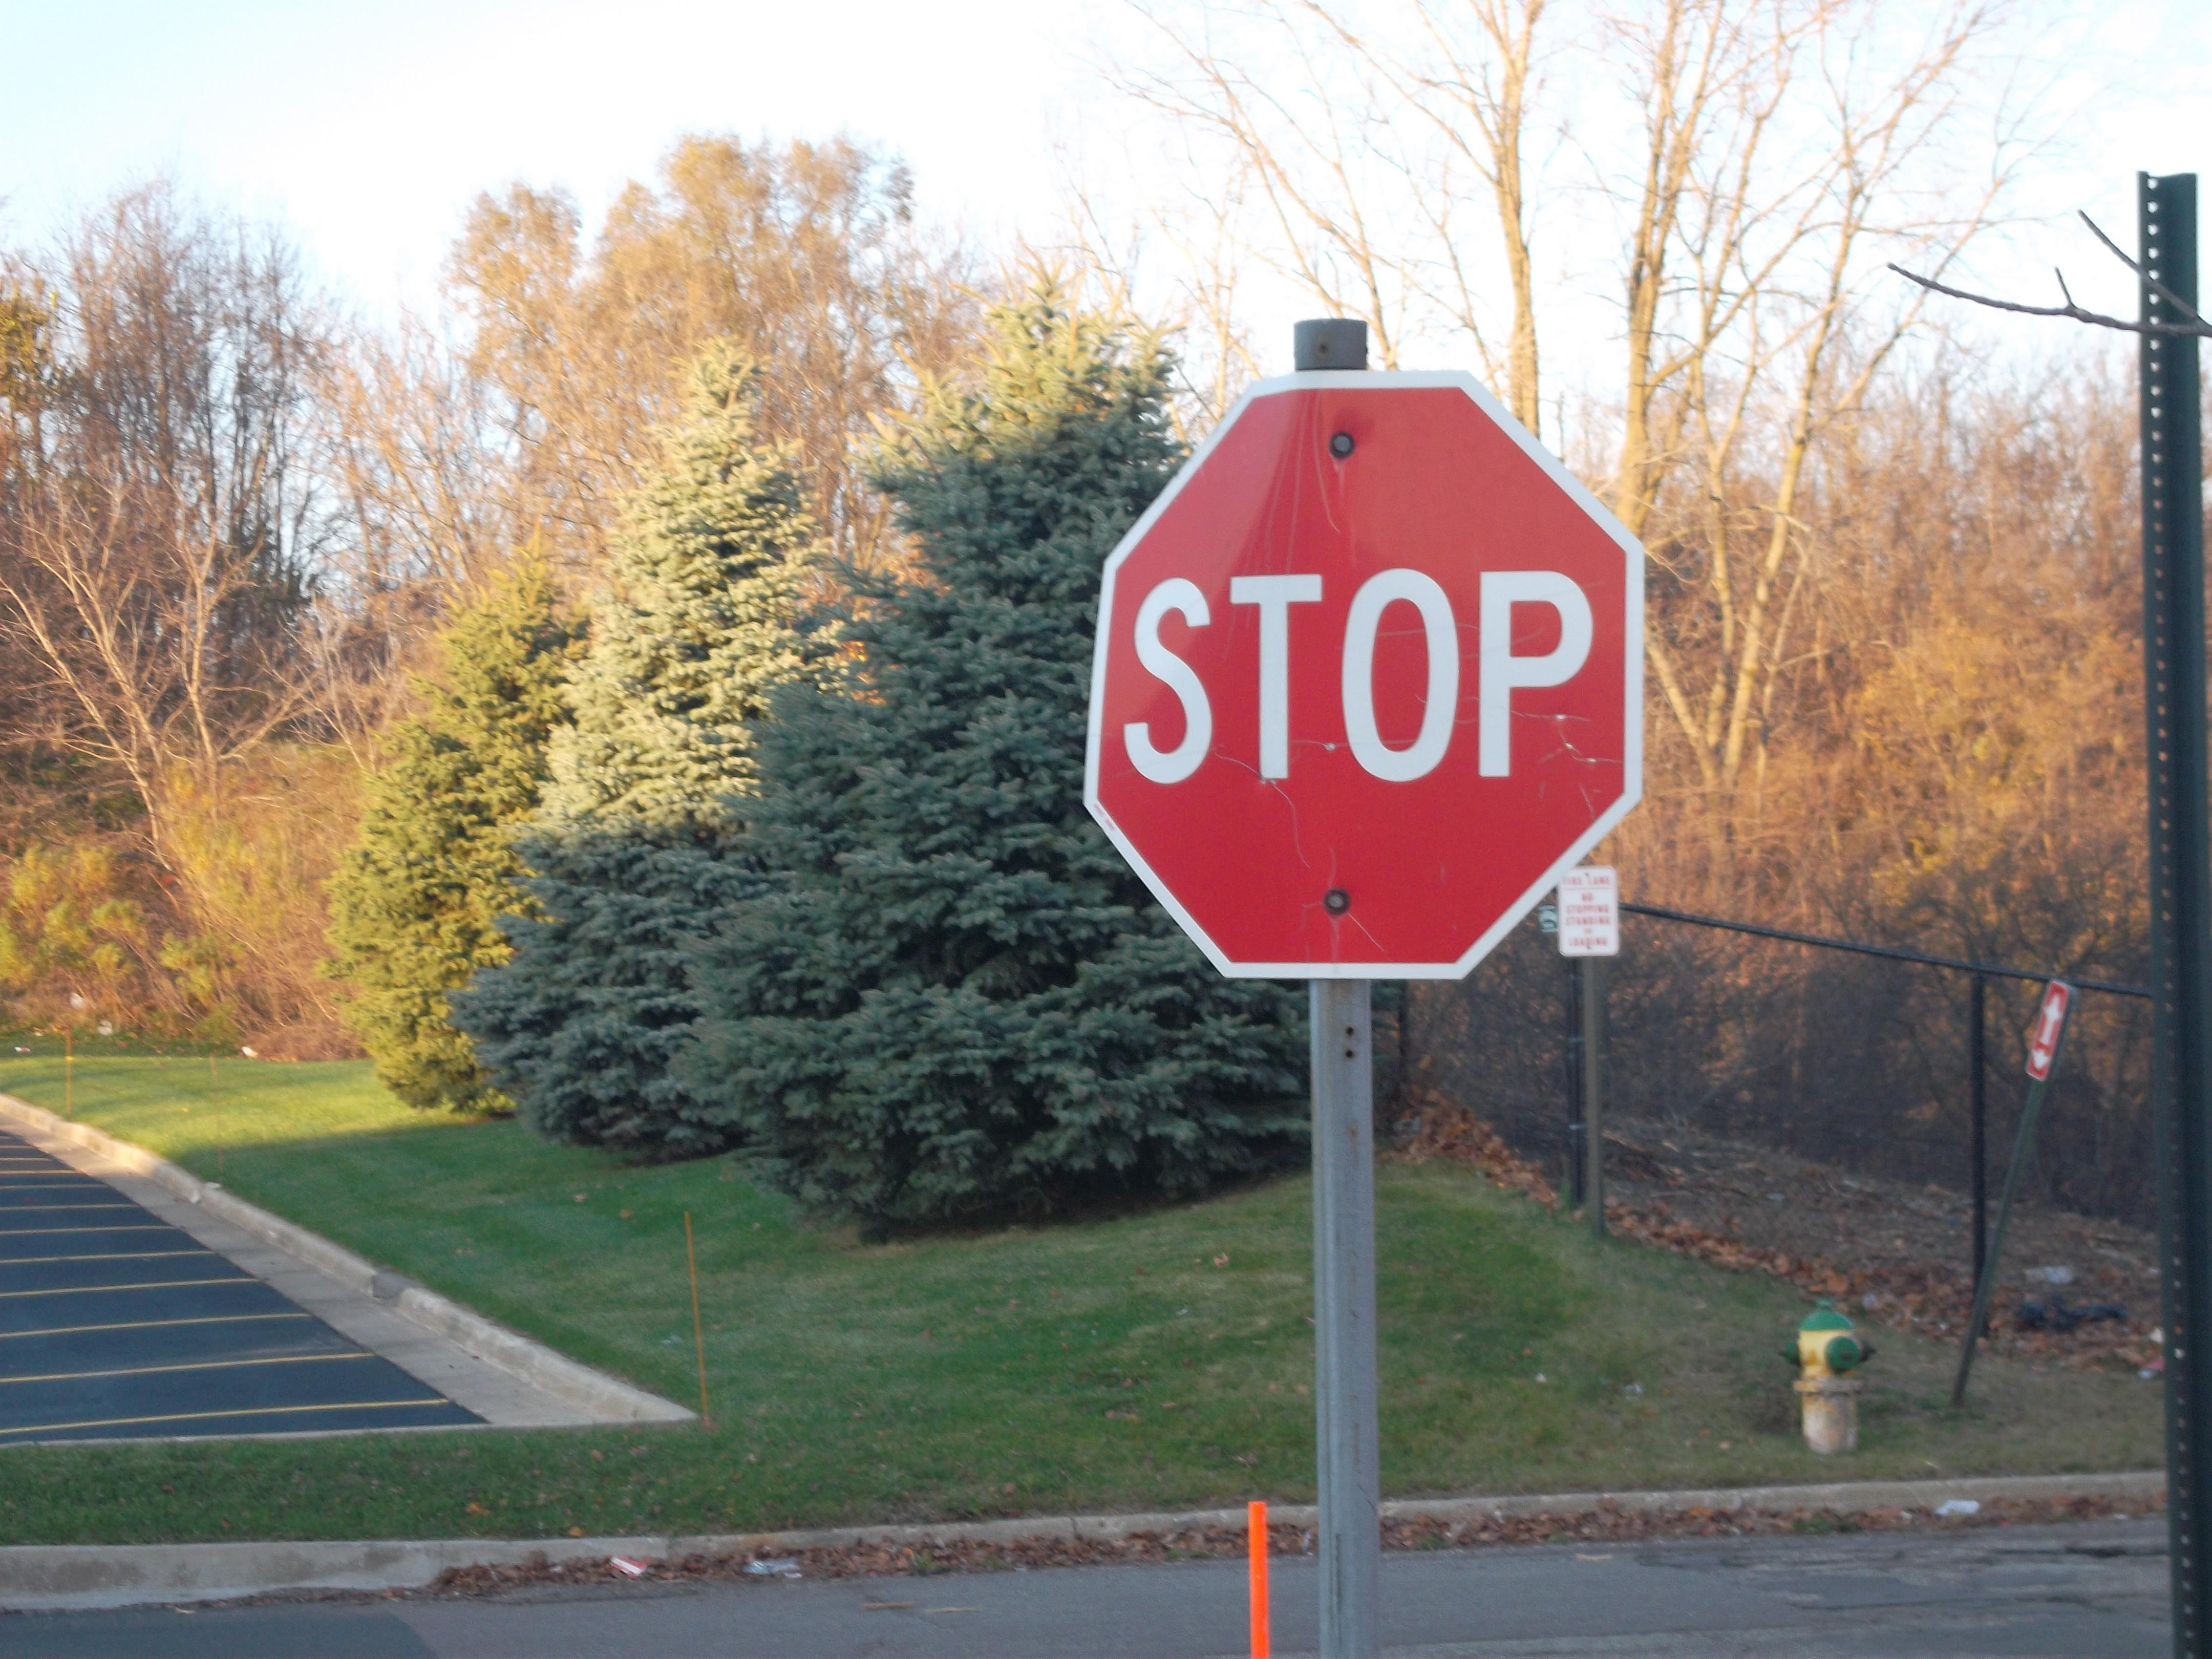stop: (1066, 359, 1665, 993)
